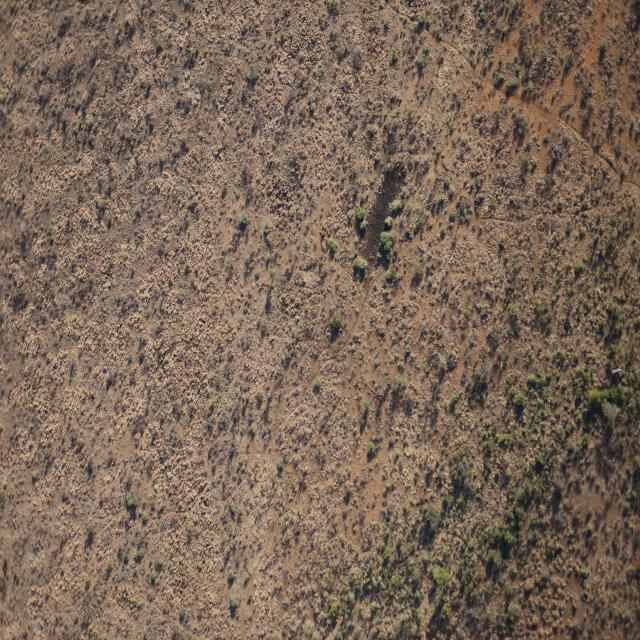elephant: (611, 366, 624, 375)
